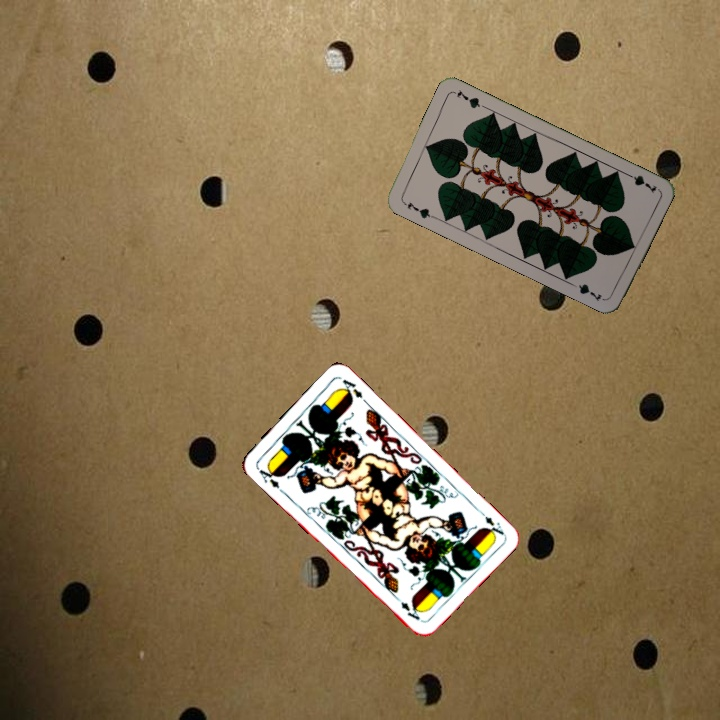EA: (474, 505, 507, 540), (253, 461, 282, 491)
G7: (621, 169, 659, 196), (399, 197, 437, 221)
